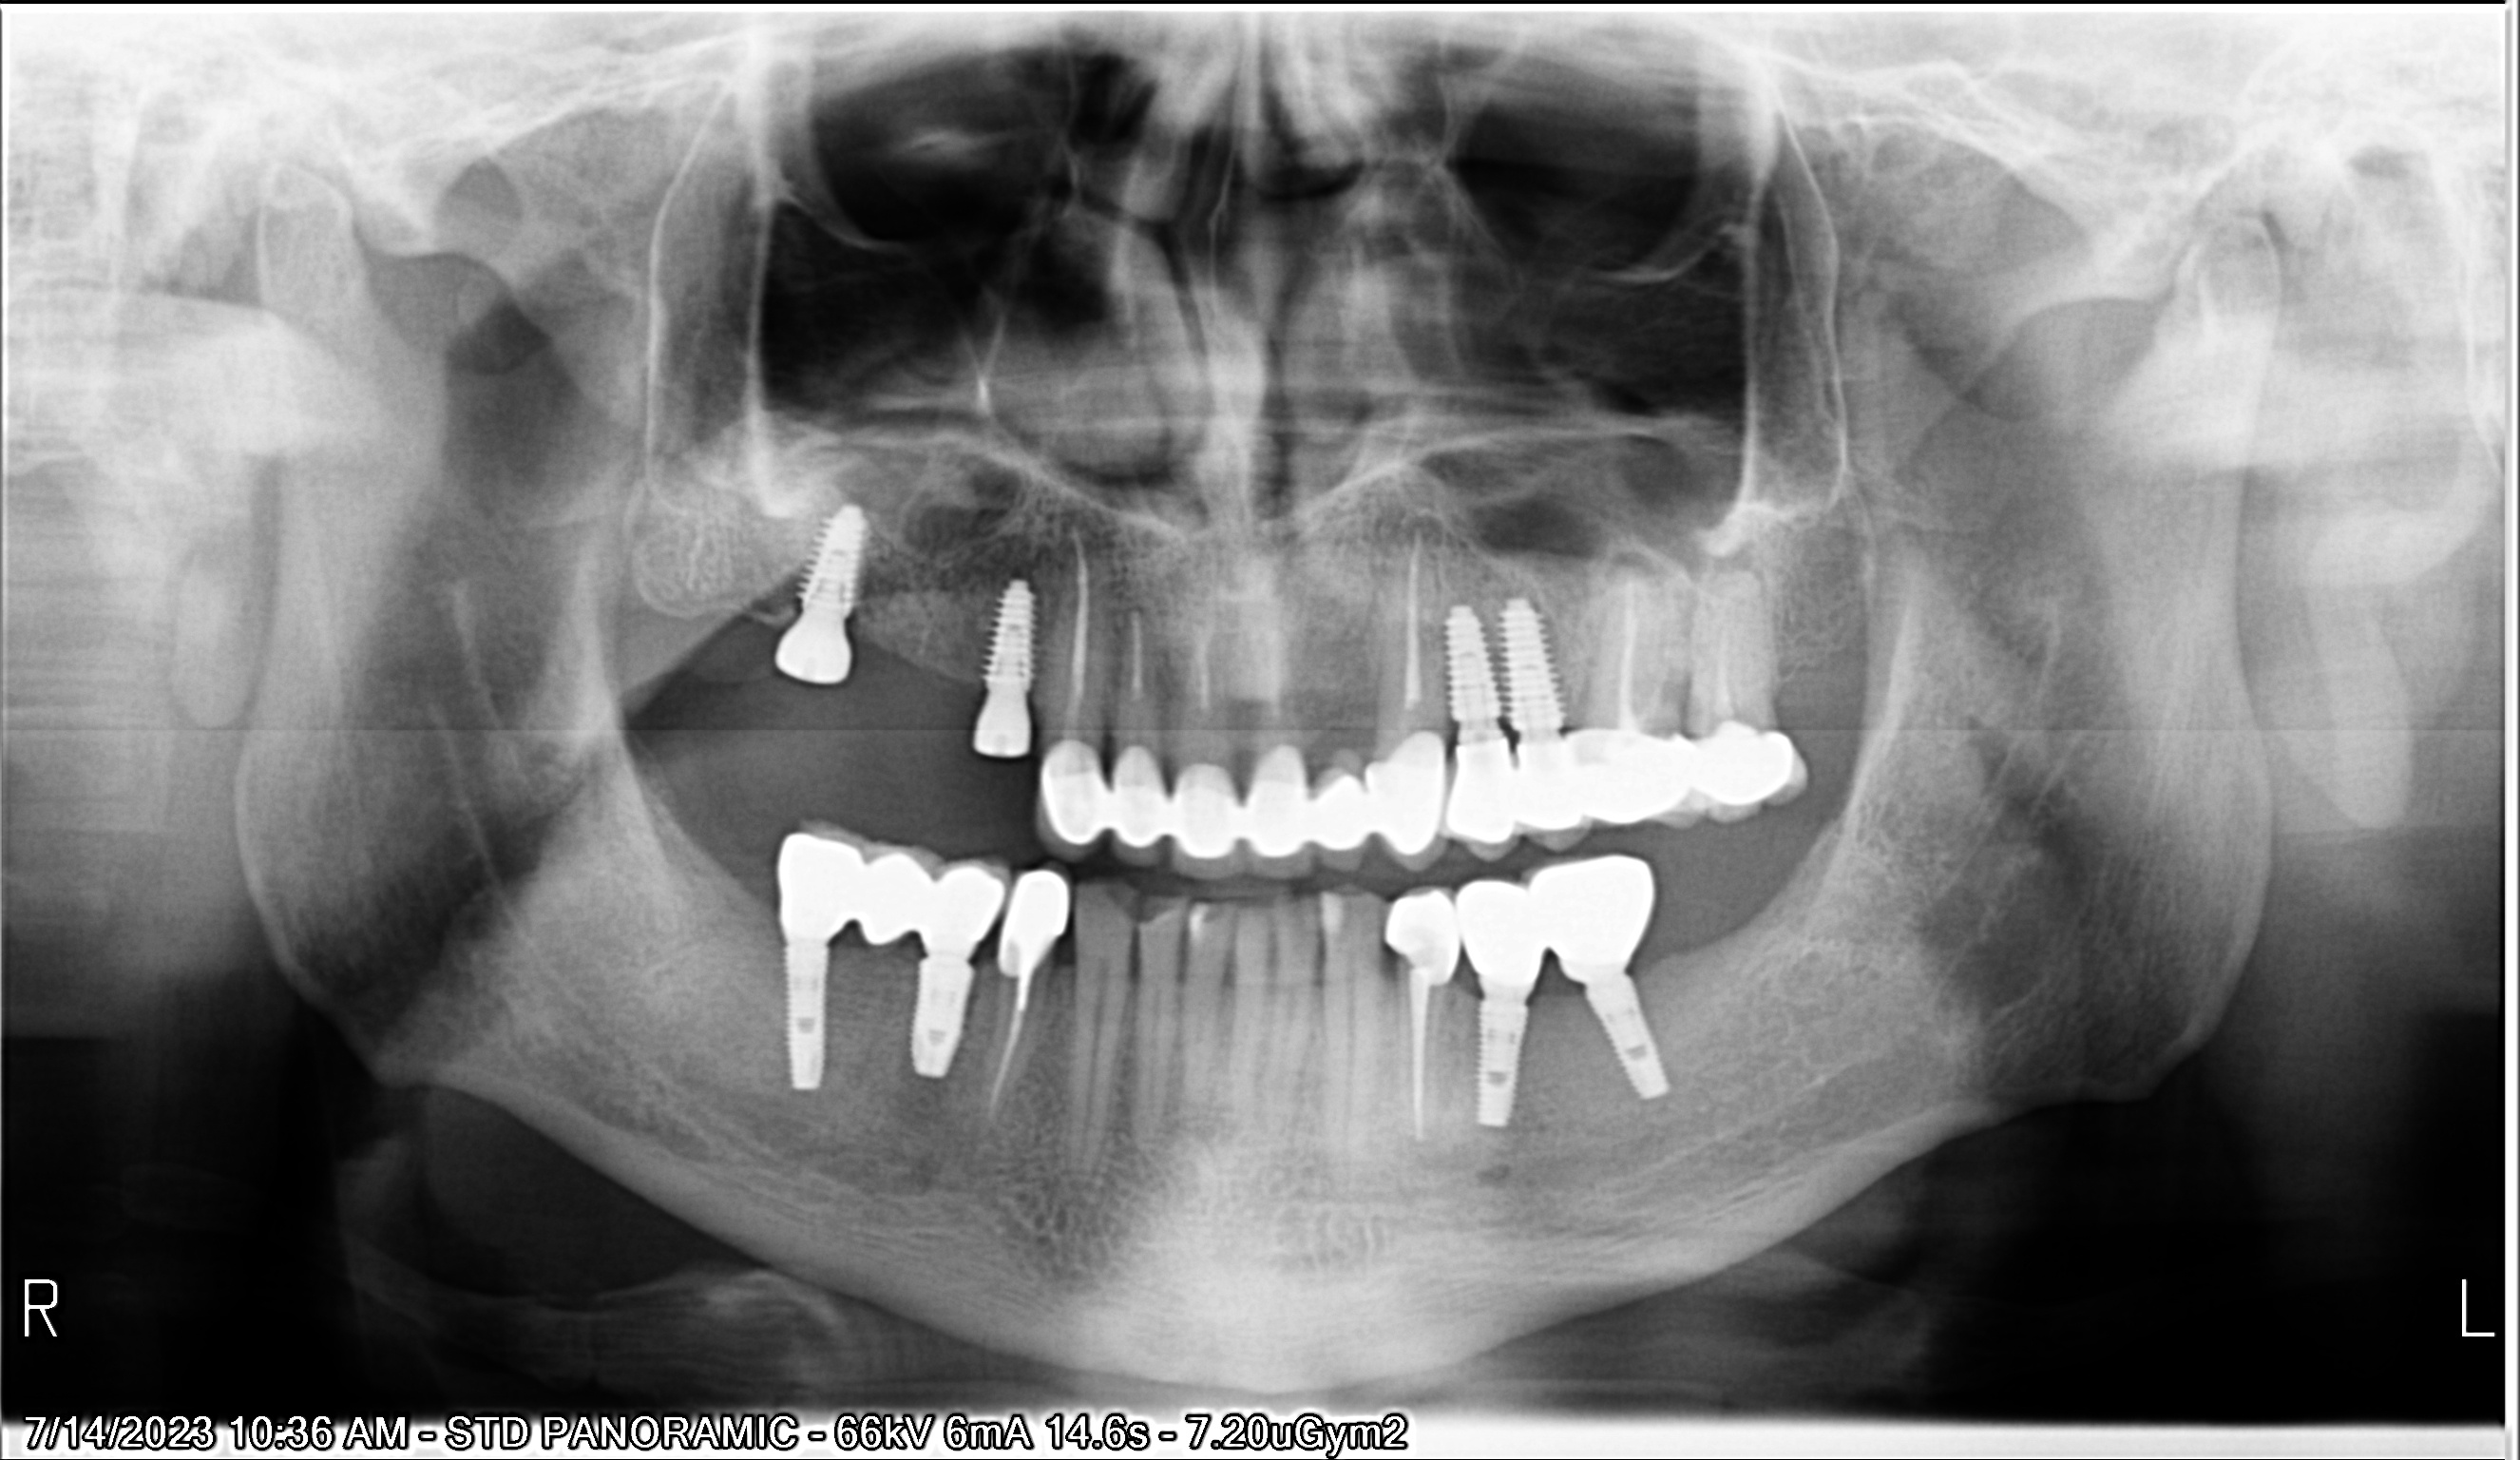END: (1061, 549, 1105, 735), (986, 977, 1040, 1107), (1398, 520, 1428, 714), (1403, 982, 1438, 1138), (1610, 567, 1643, 725), (1709, 581, 1740, 720), (1117, 619, 1162, 702), (1183, 627, 1221, 718), (1252, 640, 1283, 720)
IMP: (1579, 982, 1672, 1102), (795, 492, 877, 622), (773, 940, 835, 1092), (1499, 598, 1567, 737), (1469, 989, 1532, 1131), (976, 579, 1044, 697), (912, 956, 971, 1081), (1447, 605, 1502, 732)
OBT: (1311, 893, 1351, 956), (1179, 900, 1204, 951)
PRR: (1450, 721, 1806, 855), (1044, 737, 1441, 855), (1388, 860, 1667, 977), (766, 824, 1004, 956), (999, 876, 1070, 968)
